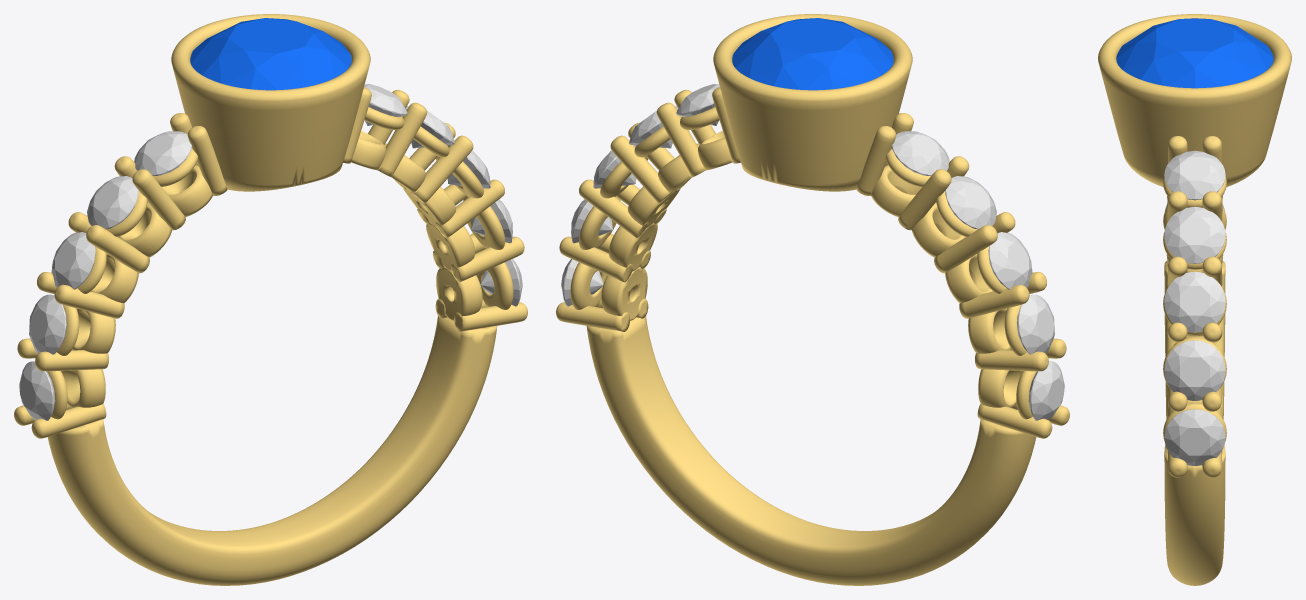
File: bluesapphire-round-yellowgold-bezelset-straightband-5stone.glb
3 views of the same model, side by side, from view 1: azimuth 30°, elevation 25°; view 2: azimuth 150°, elevation 25°; view 3: azimuth 270°, elevation 25° (orthographic). The views are drawn at different scales.
Parts seen in each view (by area): view 1: metal, stone, side.006, side.007, side.005, side.008, side.009, side, side.004, side.001, side.003; view 2: metal, stone, side.006, side.007, side.005, side.008, side.009, side, side.004, side.001, side.003; view 3: metal, stone, side.003, side.002, side.001, side.004, side.
Boxes of the visible parts, box(x1,y1,x2,y2) form: metal: box(14, 14, 527, 585); stone: box(190, 18, 351, 90); side.006: box(87, 176, 138, 229); side.007: box(51, 232, 95, 289); side.005: box(134, 131, 191, 175); side.008: box(29, 294, 66, 354); side.009: box(19, 361, 55, 420); side: box(364, 84, 407, 125); side.004: box(480, 259, 522, 306); side.001: box(405, 106, 454, 148); side.003: box(471, 199, 512, 243); metal: box(556, 14, 1069, 585); stone: box(732, 18, 893, 90); side.006: box(945, 176, 996, 229); side.007: box(988, 232, 1032, 289); side.005: box(892, 131, 949, 175); side.008: box(1017, 294, 1054, 354); side.009: box(1028, 361, 1064, 420); side: box(676, 84, 719, 125); side.004: box(561, 259, 603, 306); side.001: box(629, 106, 678, 148); side.003: box(571, 199, 612, 243); metal: box(1098, 14, 1291, 585); stone: box(1116, 18, 1273, 88); side.003: box(1164, 340, 1225, 400); side.002: box(1164, 271, 1225, 332); side.001: box(1164, 207, 1225, 263); side.004: box(1164, 409, 1225, 465); side: box(1164, 150, 1225, 200).
Size of the model in its own units: 22.63 by 23.81 by 7.94.
